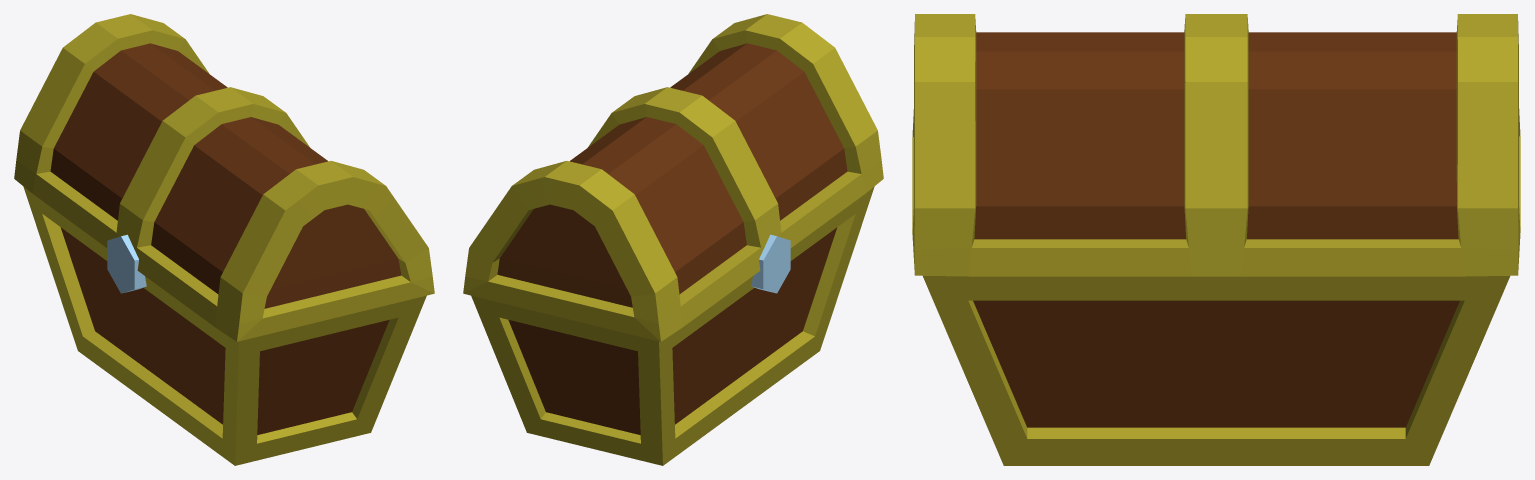
File: Chest_2.FBX
The picture shows the model from 3 angles, left to right: view 1: azimuth 30°, elevation 25°; view 2: azimuth 150°, elevation 25°; view 3: azimuth 270°, elevation 25°; orthographic projection. The views are drawn at different scales.
Visible parts, largest first — view 1: up_low, bottom_low, key_up, key_down; view 2: up_low, bottom_low, key_up, key_down; view 3: up_low, bottom_low.
Boxes of the visible parts, left/top/right/bottom form: up_low: left=14, top=14, right=434, bottom=341; bottom_low: left=23, top=186, right=426, bottom=465; key_up: left=107, top=234, right=140, bottom=274; key_down: left=107, top=255, right=146, bottom=293; up_low: left=463, top=14, right=883, bottom=341; bottom_low: left=471, top=186, right=874, bottom=465; key_up: left=757, top=234, right=790, bottom=274; key_down: left=751, top=255, right=790, bottom=293; up_low: left=912, top=14, right=1520, bottom=276; bottom_low: left=923, top=275, right=1510, bottom=465.
Size of the model in its own units: 32.46 by 44.38 by 61.83.
